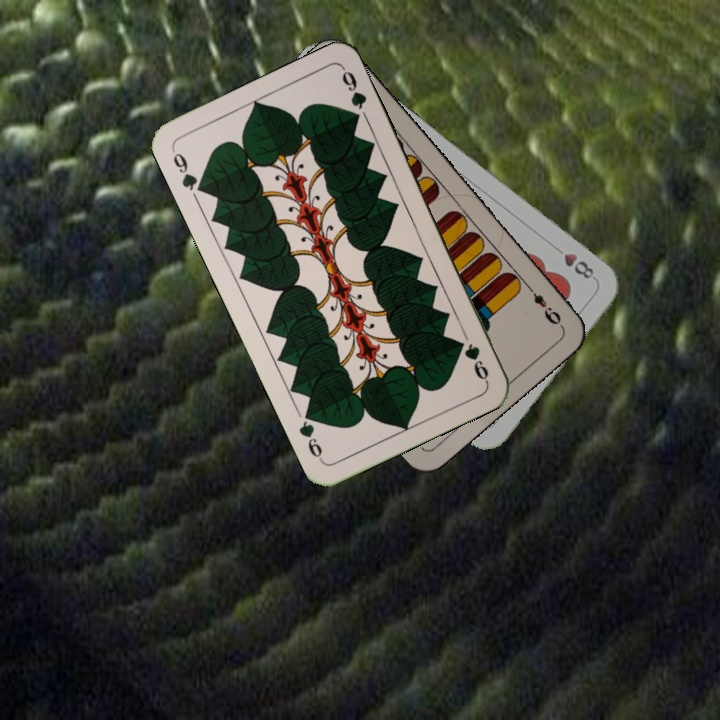E9: (522, 280, 565, 329)
G9: (168, 146, 209, 197), (459, 328, 491, 384)
H8: (549, 241, 597, 282)
